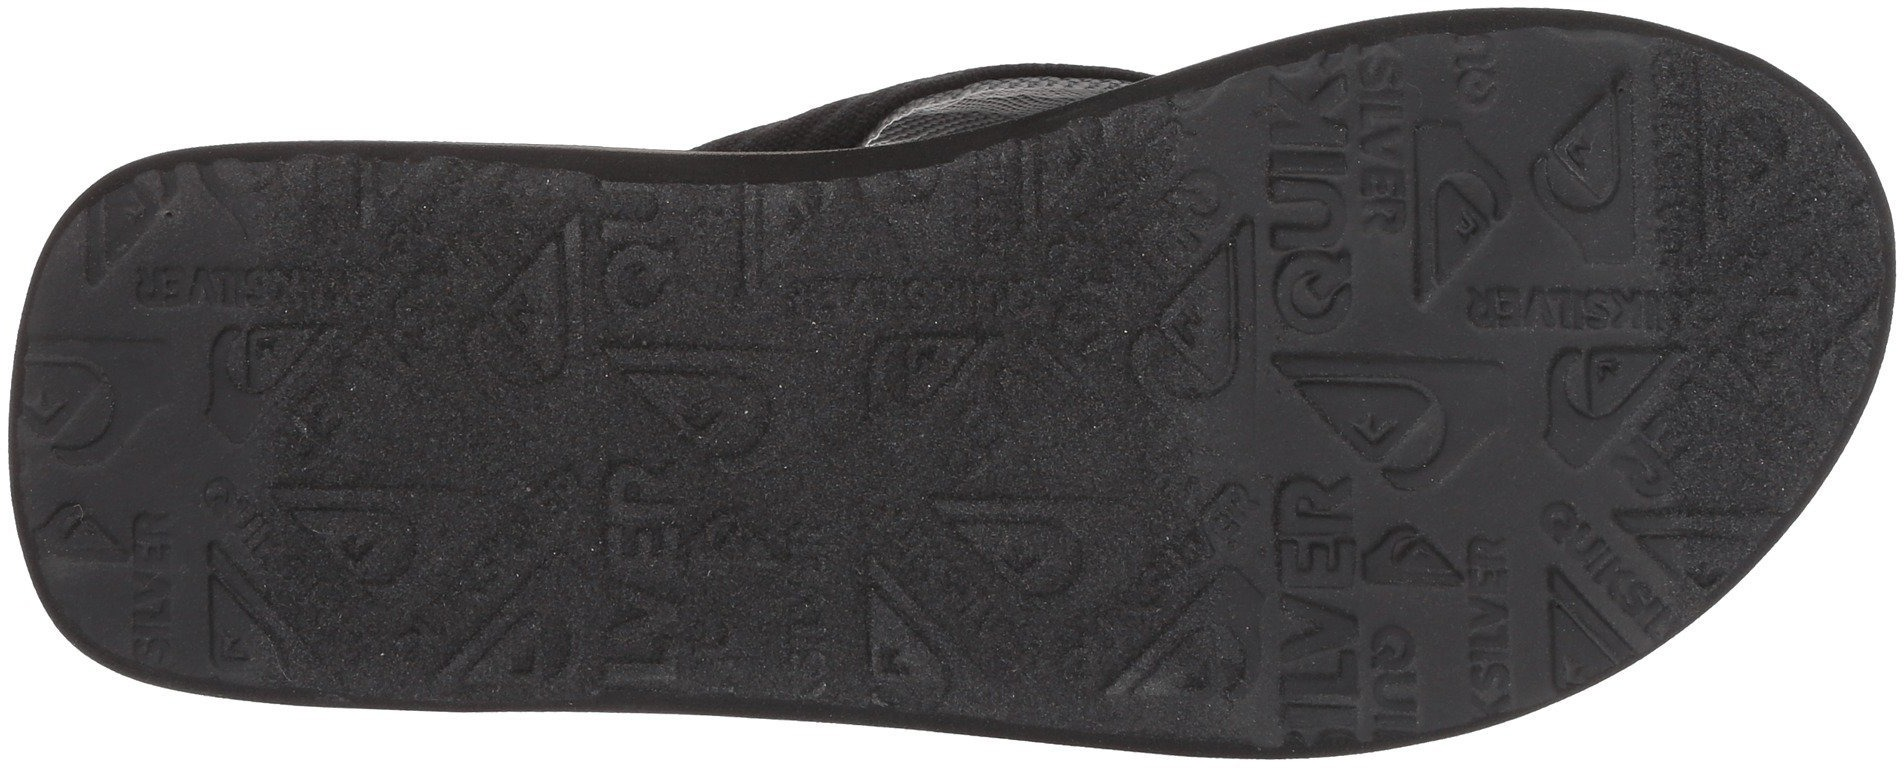other: (639, 181, 1177, 687), (124, 191, 625, 671)
